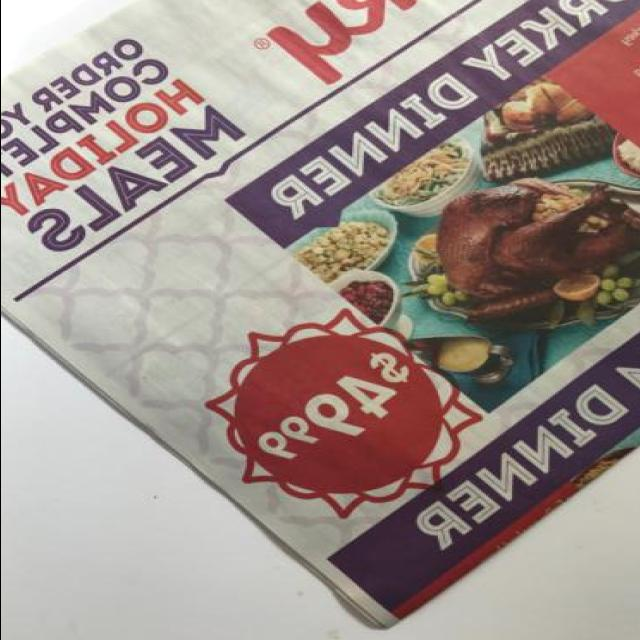kertas: (0, 0, 640, 636)
